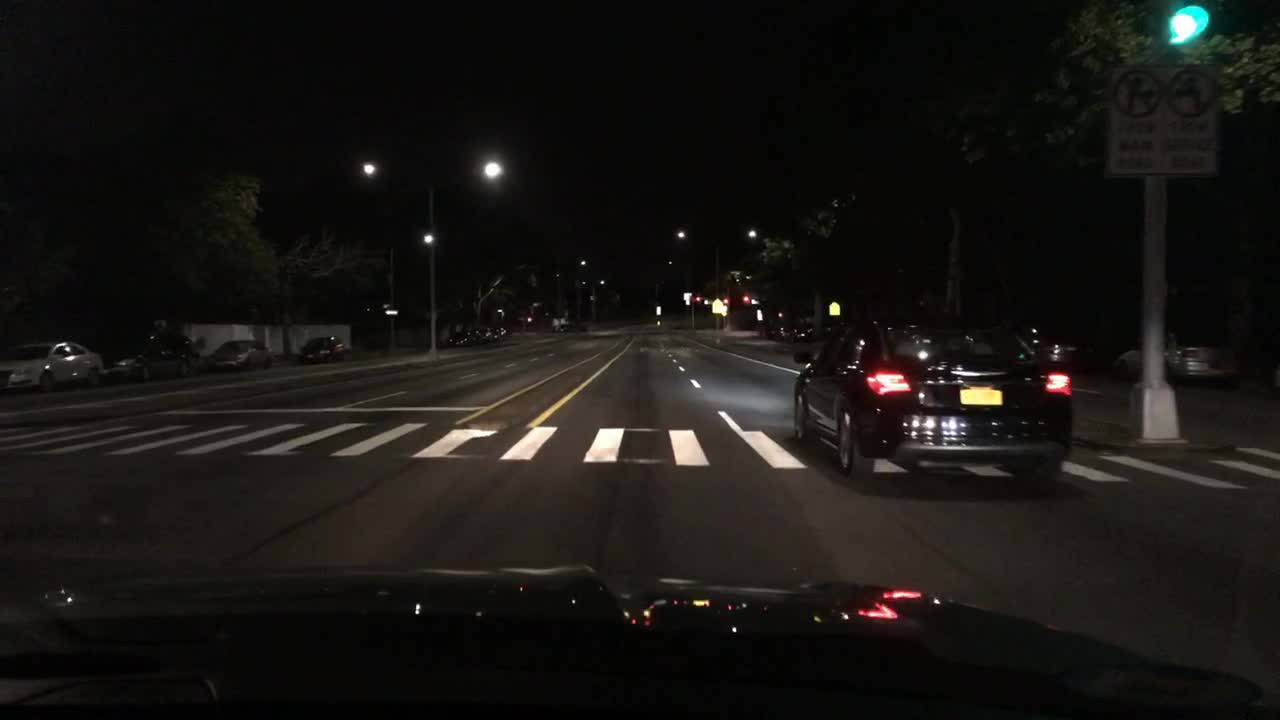car: (789, 314, 1075, 480), (1110, 326, 1242, 391), (102, 328, 207, 385), (0, 339, 103, 396), (1015, 326, 1094, 374), (204, 339, 272, 374), (298, 333, 348, 366), (794, 311, 816, 343), (819, 321, 849, 341), (778, 313, 796, 338), (757, 313, 774, 339), (552, 321, 586, 334), (446, 330, 471, 346), (467, 328, 482, 344), (480, 326, 495, 341), (495, 325, 507, 341)
traffic light: (1160, 2, 1210, 52), (742, 290, 750, 306)
traffic sign: (1105, 61, 1216, 177), (711, 296, 724, 314), (827, 301, 839, 319), (381, 308, 399, 319)
